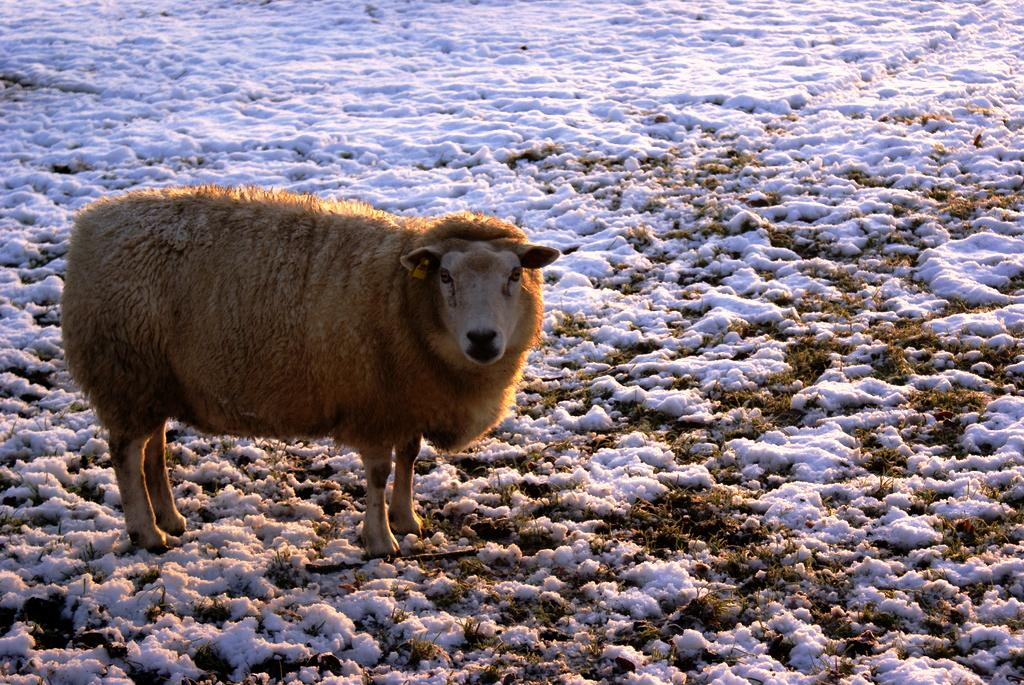Sheep: (61, 176, 564, 570)
